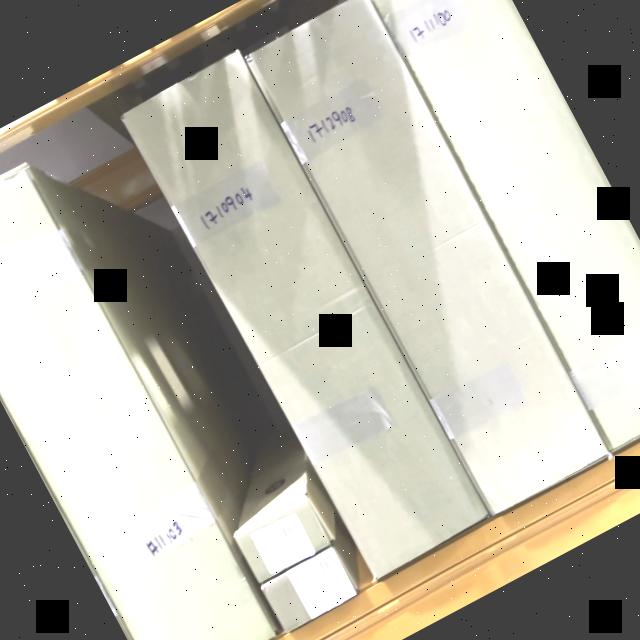box: (127, 52, 487, 578), (246, 0, 609, 517), (0, 162, 275, 640), (363, 0, 640, 450), (234, 496, 332, 583), (263, 550, 358, 631)
